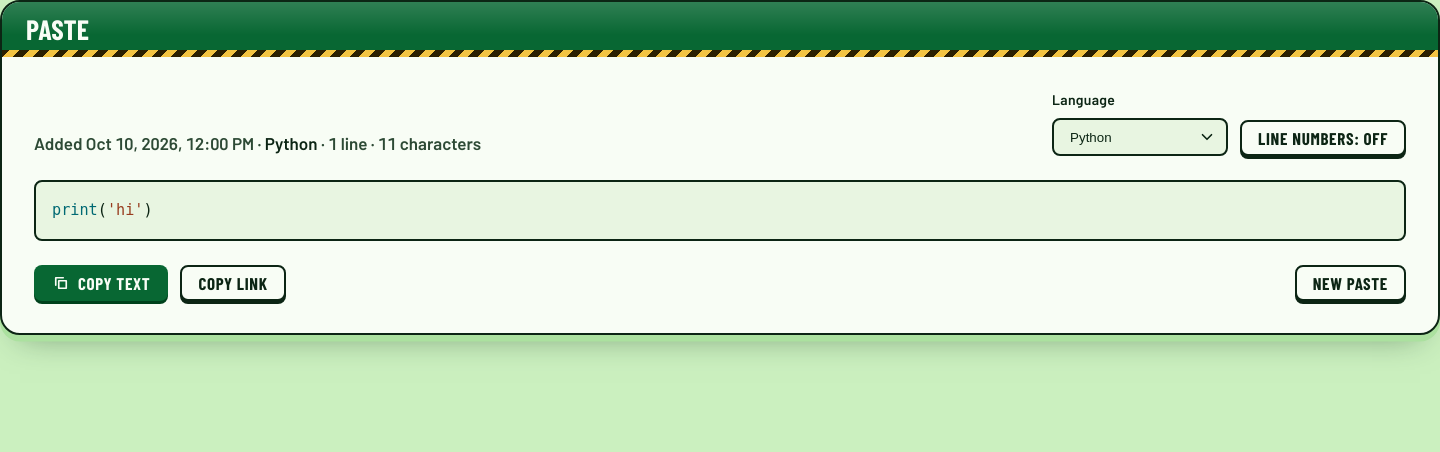
Test: PasteViewer › languages › goes back to the stored language when the change fails
Select "Ruby" in the dropdown labelled "Language" at x=1140, y=138, box [1052,118,1228,156]
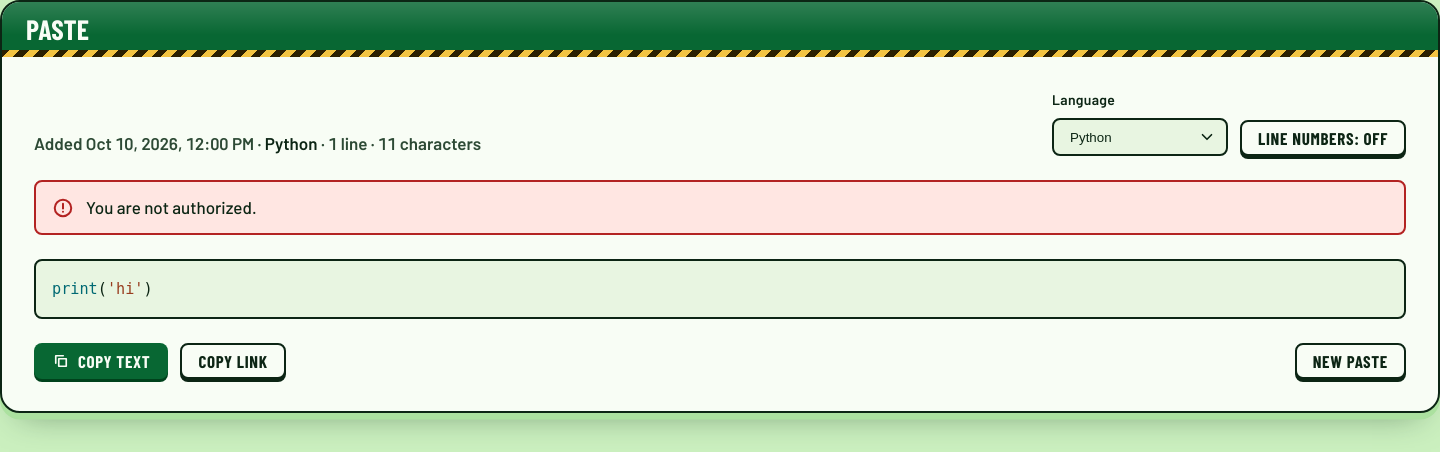
Expected: the message "You are not authorized." is shown, [34,180,1406,235]
